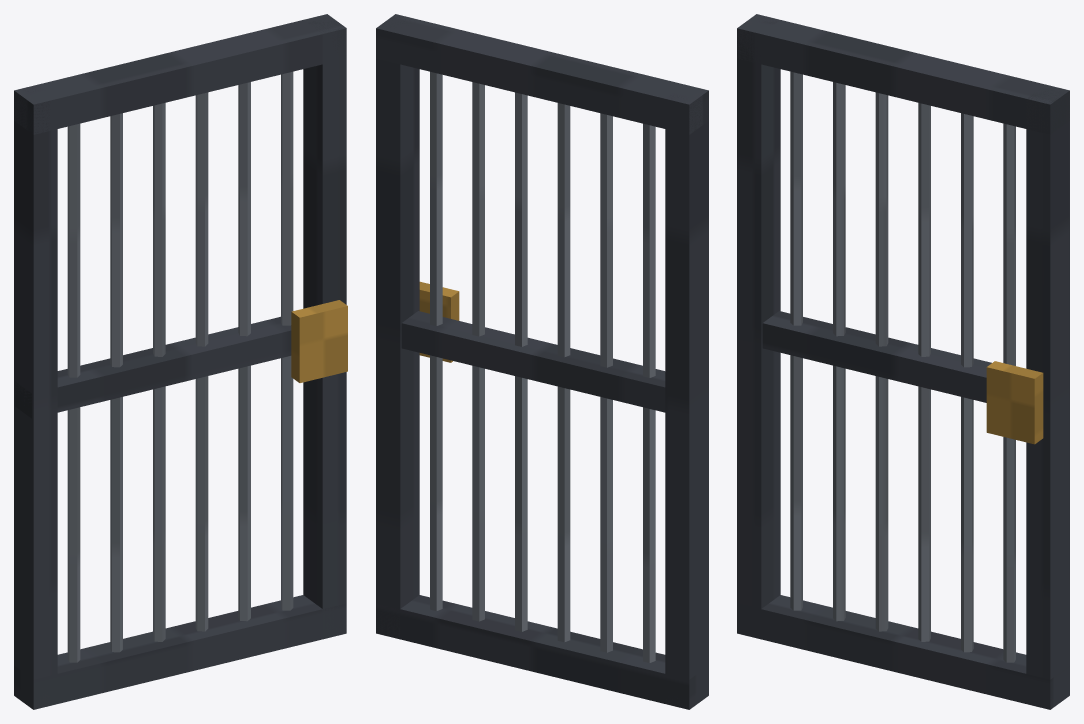
Rendered from SM_Prop_CellDoor_HQ.glb.
3 views of the same model, side by side, from view 1: azimuth 30°, elevation 25°; view 2: azimuth 150°, elevation 25°; view 3: azimuth 330°, elevation 25° (orthographic).
Parts seen in each view (by area): view 1: SM_Prop_CellDoor_HQ; view 2: SM_Prop_CellDoor_HQ; view 3: SM_Prop_CellDoor_HQ.
Boxes of the visible parts, x1,y1,x2,y2 form: SM_Prop_CellDoor_HQ: (14,14,347,709); SM_Prop_CellDoor_HQ: (376,14,708,709); SM_Prop_CellDoor_HQ: (737,14,1069,709).
Size of the model in its own units: 1.3 by 2.4 by 0.2.
1 material, 1 textured.
